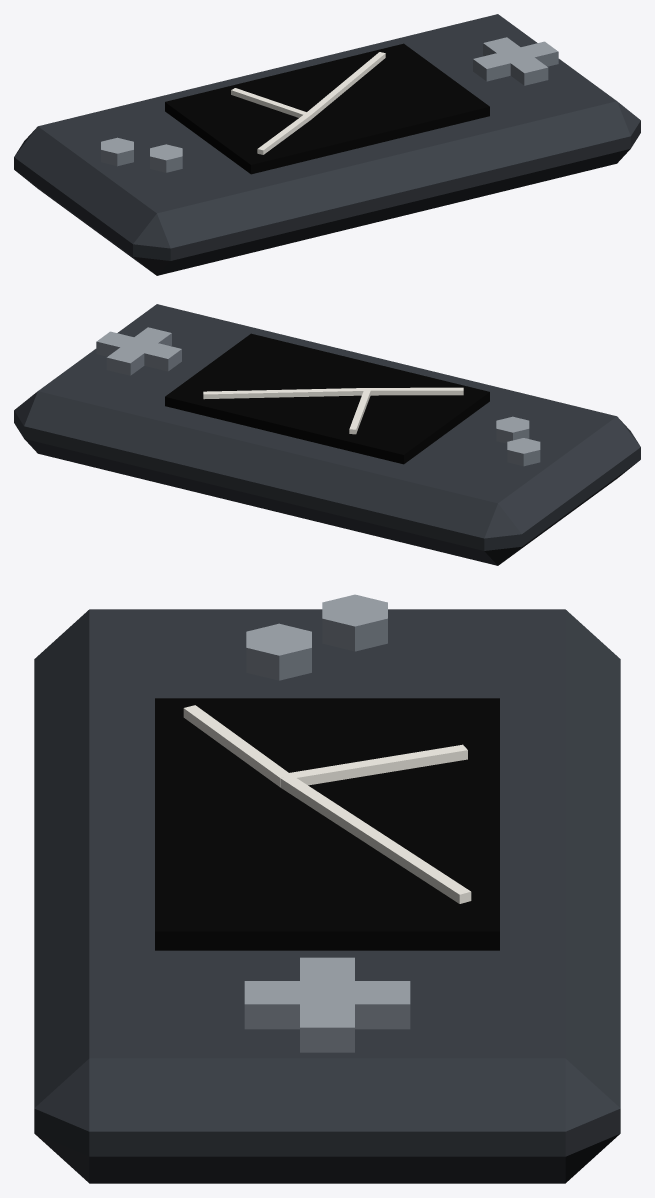
File: Item_handheld.fbx
3 renders of one model, top to bottom at view 1: azimuth 30°, elevation 25°; view 2: azimuth 150°, elevation 25°; view 3: azimuth 270°, elevation 25°, orthographic. The views are drawn at different scales.
Parts seen in each view (by area): view 1: Body.002, Screen, Buttons, Crack; view 2: Body.002, Screen, Buttons, Crack; view 3: Body.002, Screen, Buttons, Crack.
Boxes of the visible parts, <box> form: Body.002: <box>14,14,640,275</box>; Screen: <box>165,43,489,174</box>; Buttons: <box>101,37,558,172</box>; Crack: <box>231,52,385,154</box>; Body.002: <box>14,304,640,565</box>; Screen: <box>165,333,489,464</box>; Buttons: <box>96,327,540,466</box>; Crack: <box>203,387,463,434</box>; Body.002: <box>34,609,620,1183</box>; Screen: <box>155,698,499,950</box>; Buttons: <box>244,594,410,1052</box>; Crack: <box>183,705,471,903</box>.
Bounding box in the file's own units: 0.2295 × 0.0331 × 0.1148.
